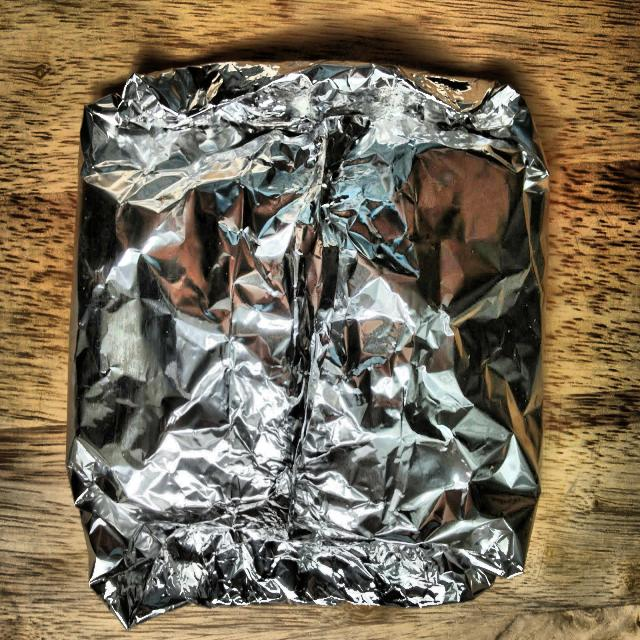Foil: (62, 52, 553, 636)
